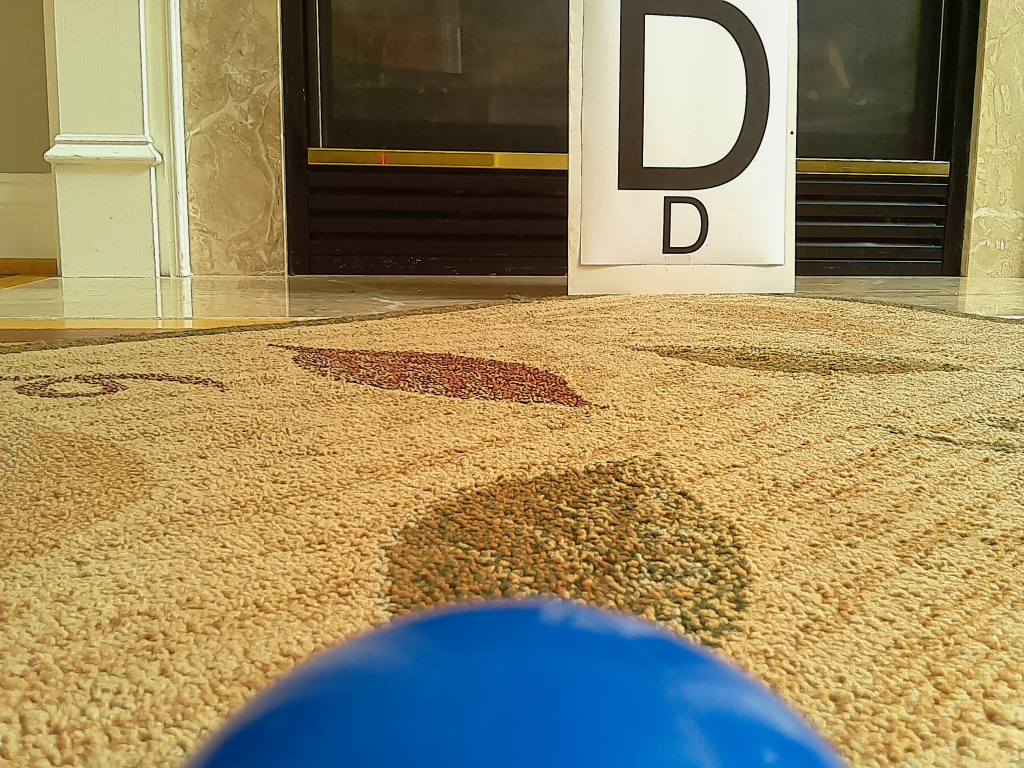letter: (620, 1, 771, 191)
